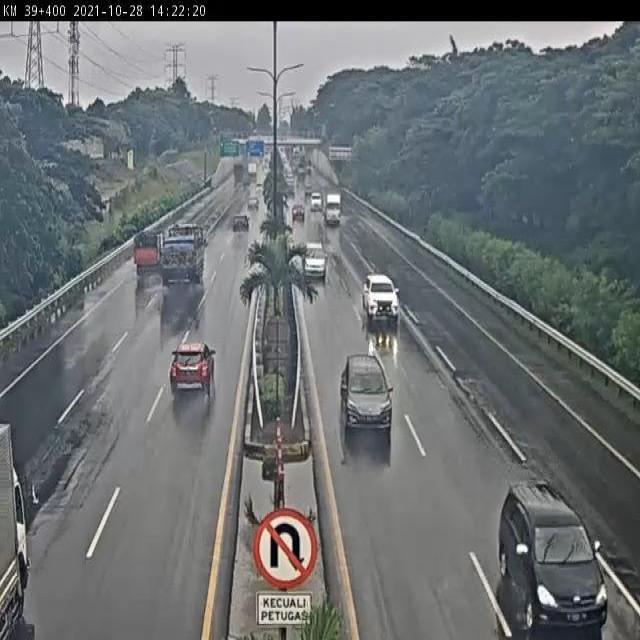car: (493, 473, 612, 632), (339, 352, 396, 435), (166, 339, 219, 401), (361, 274, 402, 322), (301, 242, 328, 278), (229, 210, 251, 238), (289, 199, 306, 221), (245, 193, 260, 216), (310, 192, 326, 208)
small truck: (134, 229, 166, 275)
truck-l-: (159, 225, 205, 288)
truck-s-: (321, 187, 343, 228)
